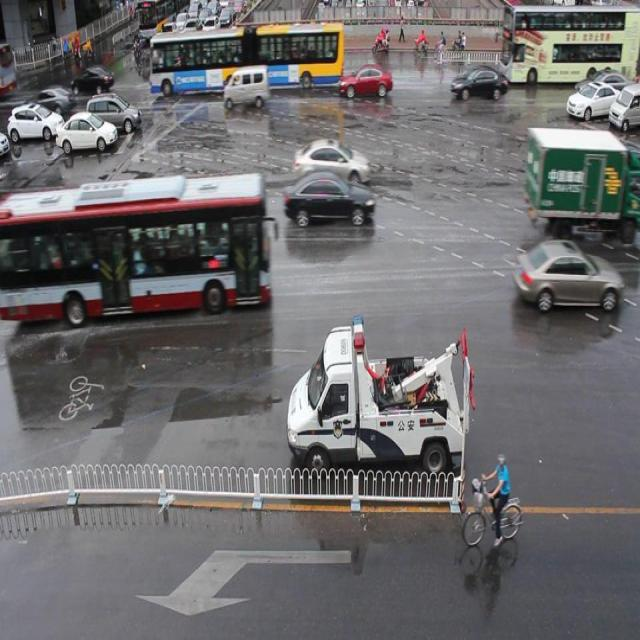bus: (524, 126, 640, 229)
car: (511, 238, 623, 314), (282, 170, 372, 228), (294, 138, 370, 188), (565, 80, 623, 120), (450, 64, 507, 101), (340, 64, 392, 101)
truck: (223, 64, 269, 110)
van: (0, 172, 268, 312), (150, 26, 345, 87), (502, 1, 640, 83)
